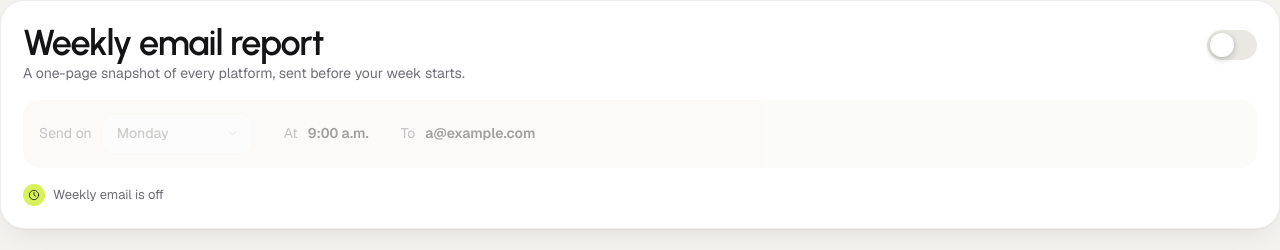
ScheduleCard › saves when turned on, with this device's time zone
The image size is (1280, 250).
Expected: the message reads "Weekly email is off", [53, 186, 164, 202]
Click the switch named "Send weekly email report". click: (1232, 45)
box: [1207, 23, 1257, 67]
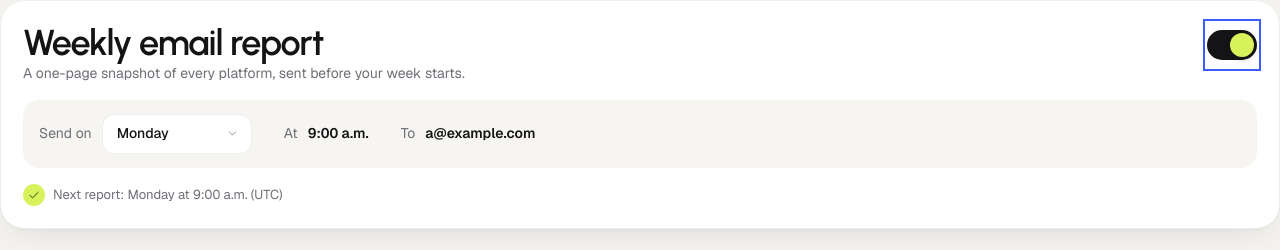
Now the text "Next report: Monday at 9:00 a.m. (UTC)" is shown, box [23, 184, 283, 206]
